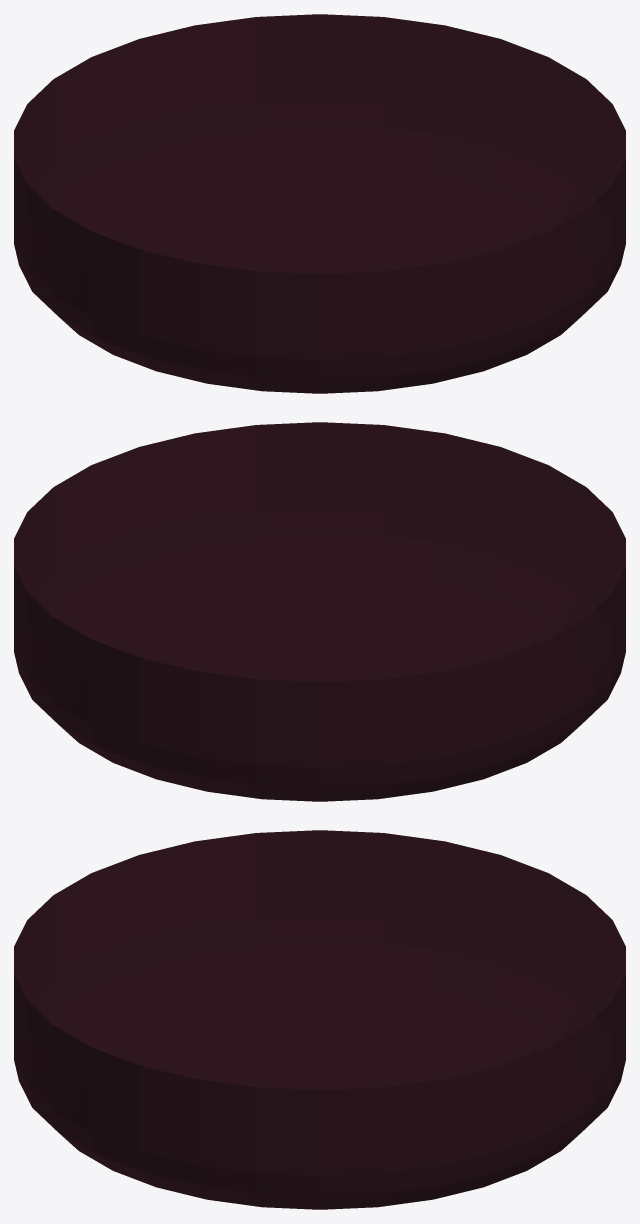
Rendered from SSM_200ml烧杯液体_001.fbx.
3 views of the same model, one above another, from view 1: azimuth 30°, elevation 25°; view 2: azimuth 150°, elevation 25°; view 3: azimuth 270°, elevation 25° (orthographic).
Parts seen in each view (by area): view 1: SSM_200ml烧杯液体_001; view 2: SSM_200ml烧杯液体_001; view 3: SSM_200ml烧杯液体_001.
Part boxes in pixels (x1=…): SSM_200ml烧杯液体_001: x1=14, y1=14, x2=625, y2=393; SSM_200ml烧杯液体_001: x1=14, y1=422, x2=625, y2=801; SSM_200ml烧杯液体_001: x1=14, y1=830, x2=625, y2=1209.
Size of the model in its own units: 0.0772 by 0.0197 by 0.0767.
